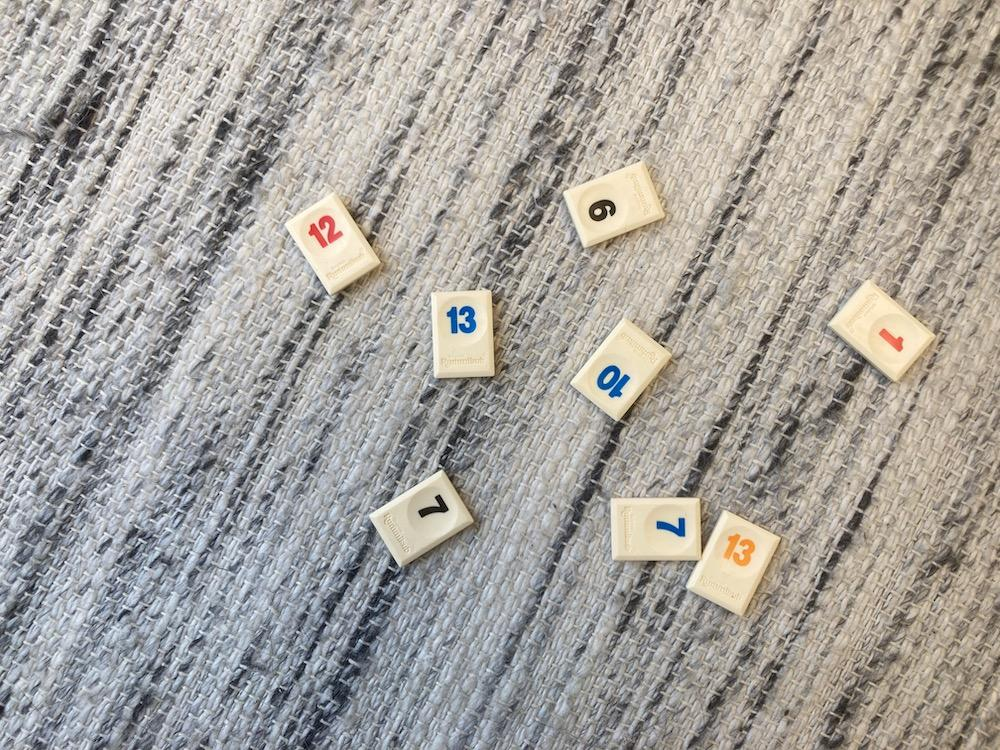black_7: (369, 471, 473, 566)
black_9: (564, 162, 664, 248)
blue_10: (572, 318, 672, 420)
blue_13: (433, 289, 492, 379)
blue_7: (612, 498, 701, 561)
orange_13: (688, 510, 779, 615)
red_1: (828, 281, 936, 381)
red_12: (285, 193, 379, 295)
